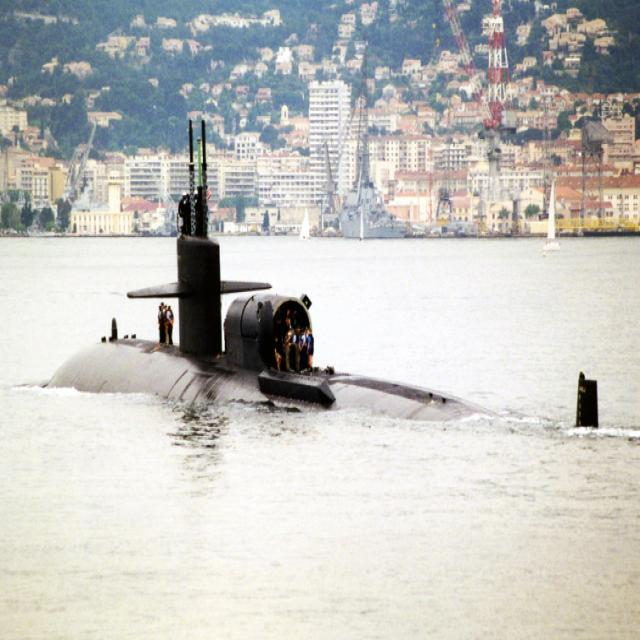submarine: (47, 118, 600, 431)
